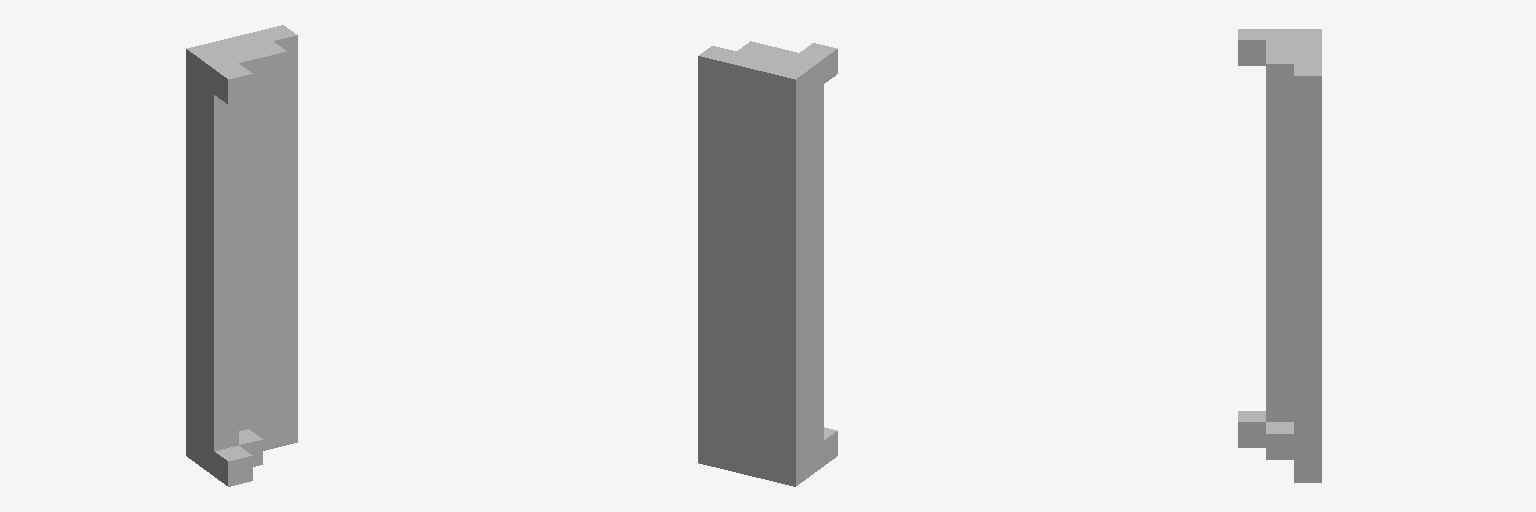
File: Static Objects-1.obj
3 renders of one model, left to right at view 1: azimuth 30°, elevation 25°; view 2: azimuth 150°, elevation 25°; view 3: azimuth 270°, elevation 25°, orthographic.
Parts seen in each view (by area): view 1: object 1; view 2: object 1; view 3: object 1.
Part boxes in pixels (x1,y1,x2,y2): object 1: (186,25,297,486); object 1: (698,41,837,486); object 1: (1238,29,1321,482).
Size of the model in its own units: 0.4 by 1.6 by 0.3.